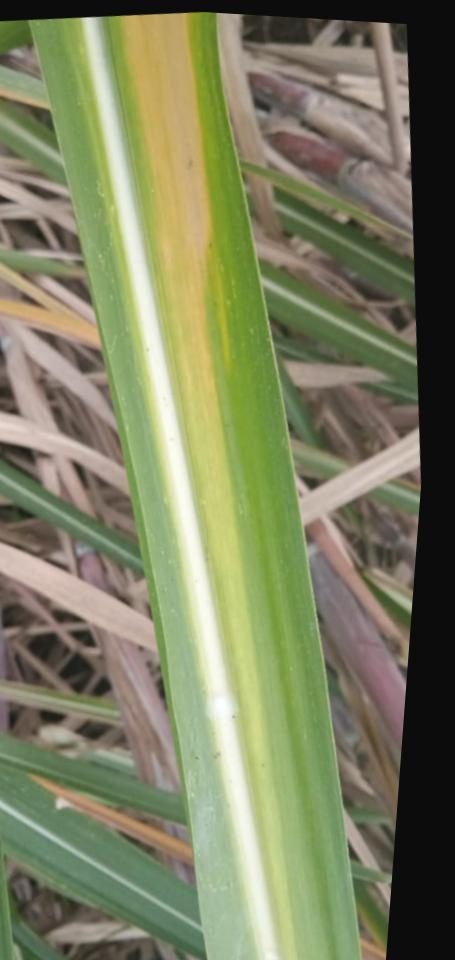Rust: (193, 756, 199, 761), (231, 714, 235, 720), (216, 751, 220, 757), (212, 755, 216, 759)
Yellow: (116, 14, 217, 453)
